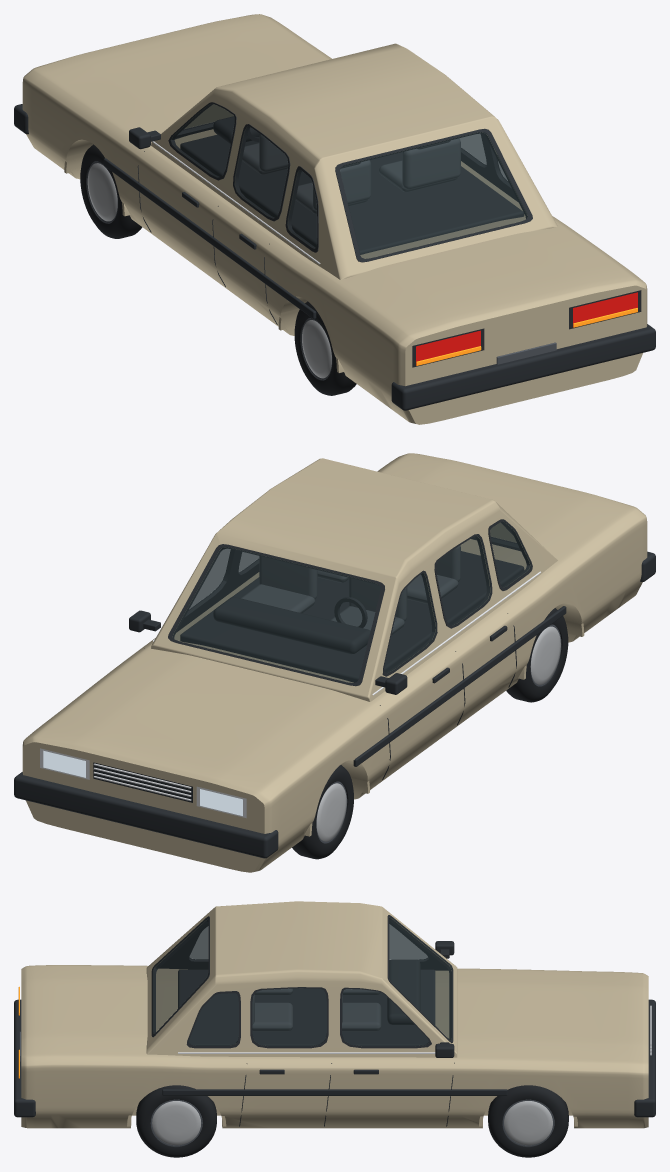
The model's file is shanghai-classic-sedan.glb.
3 views of the same model, one above another, from view 1: azimuth 30°, elevation 25°; view 2: azimuth 150°, elevation 25°; view 3: azimuth 270°, elevation 25° (orthographic). The views are drawn at different scales.
Parts seen in each view (by area): view 1: Body geometry, Running wheel geometry, Running wheel geometry.002; view 2: Body geometry, Running wheel geometry, Running wheel geometry.002; view 3: Body geometry, Running wheel geometry.001, Running wheel geometry.003.
Part boxes in pixels (box(x1,y1,x2,y2)): Body geometry: box(14, 14, 655, 424); Running wheel geometry: box(80, 144, 142, 238); Running wheel geometry.002: box(294, 301, 356, 395); Body geometry: box(14, 453, 655, 872); Running wheel geometry: box(292, 765, 353, 859); Running wheel geometry.002: box(506, 608, 568, 702); Body geometry: box(14, 901, 655, 1128); Running wheel geometry.001: box(488, 1085, 568, 1157); Running wheel geometry.003: box(136, 1085, 216, 1157).
Bounding box in the file's own units: 1.29 × 1 × 3.26.
